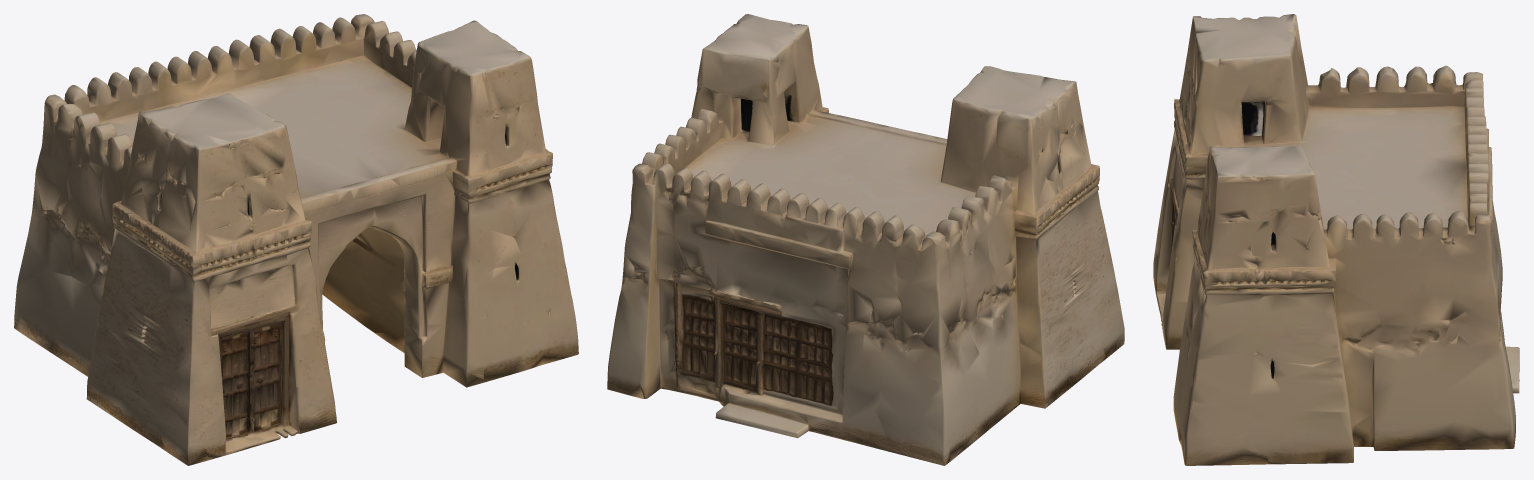
The model's file is qala_darvoza.glb.
3 renders of one model, left to right at view 1: azimuth 30°, elevation 25°; view 2: azimuth 150°, elevation 25°; view 3: azimuth 270°, elevation 25°, orthographic. The views are drawn at different scales.
Visible parts, largest first — view 1: tripo_node_839cb1ab-3a3c-4f80-a9a4-b11713b774c1; view 2: tripo_node_839cb1ab-3a3c-4f80-a9a4-b11713b774c1; view 3: tripo_node_839cb1ab-3a3c-4f80-a9a4-b11713b774c1.
Boxes of the visible parts, bbox=[...] form: tripo_node_839cb1ab-3a3c-4f80-a9a4-b11713b774c1: bbox=[14, 14, 578, 465]; tripo_node_839cb1ab-3a3c-4f80-a9a4-b11713b774c1: bbox=[607, 14, 1124, 465]; tripo_node_839cb1ab-3a3c-4f80-a9a4-b11713b774c1: bbox=[1153, 14, 1519, 465].
Bounding box in the file's own units: 0.9798 × 0.66 × 0.7919.
1 material, 1 textured.
